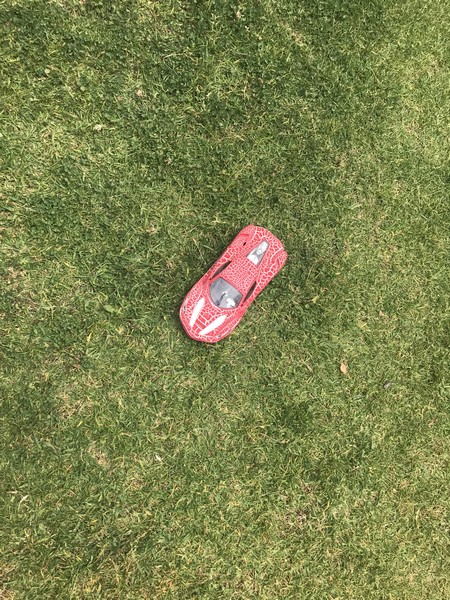RC: (177, 223, 290, 346)
